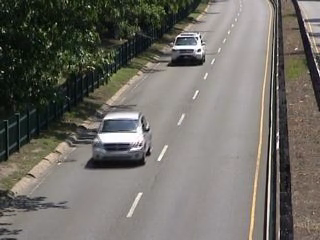car: (90, 108, 159, 167), (170, 28, 208, 67)
